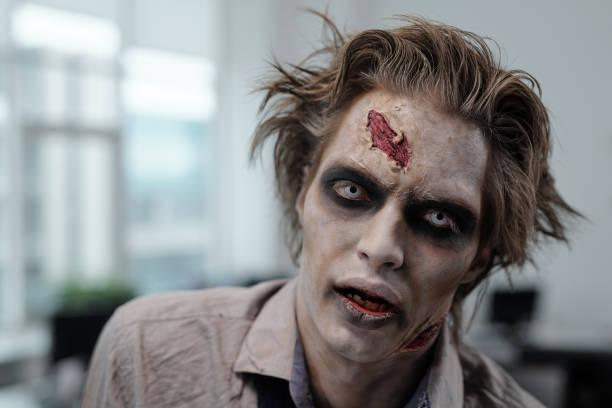Zombie: (294, 30, 513, 380)
